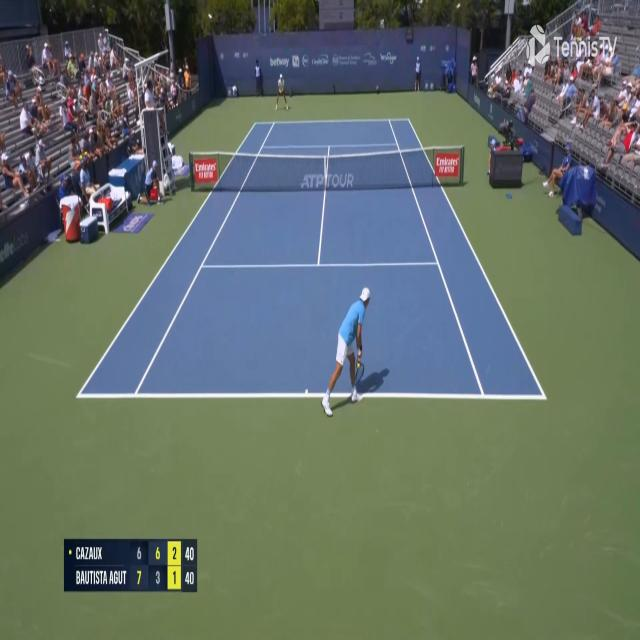tennis-player: (320, 281, 367, 421), (274, 74, 290, 111)
